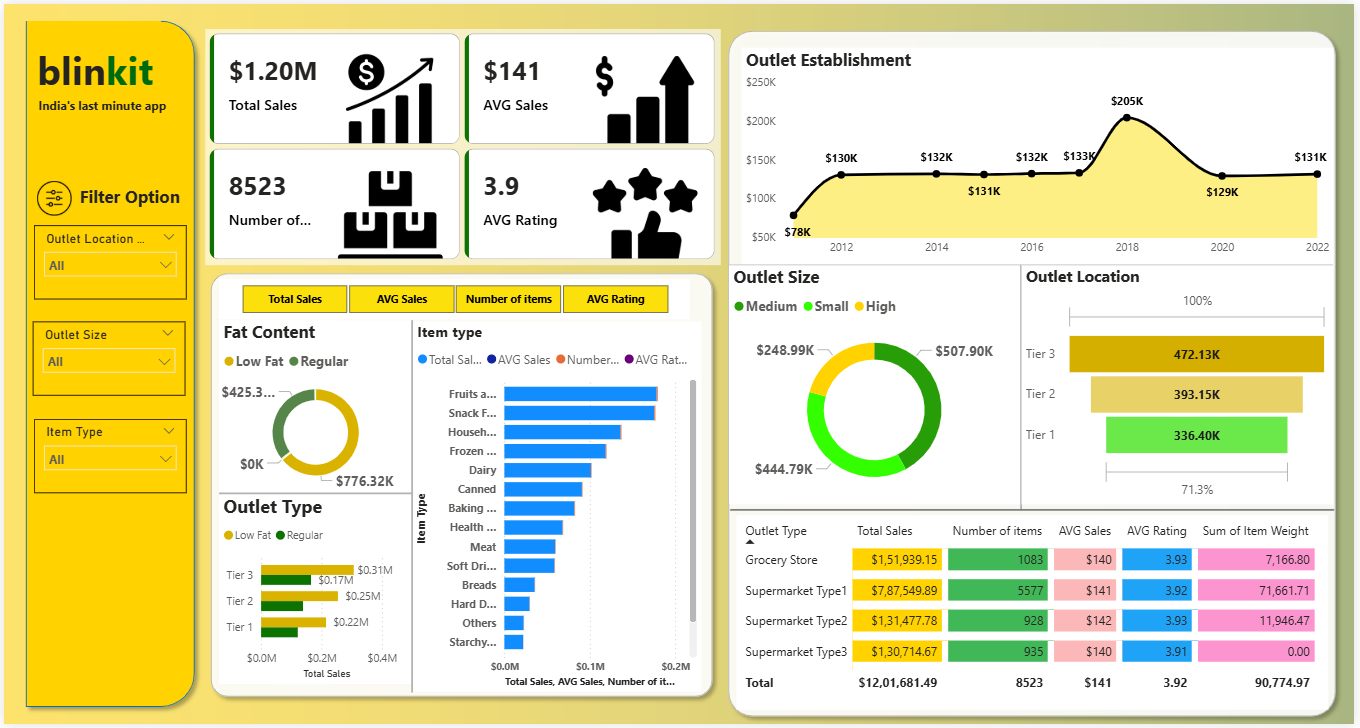

Layout of this report page (visuals, bound fields, positions):
{"tool":"powerbi","page":{"name":"Blinkit Dashboard","canvas":[1500,800],"ordinal":0},"visuals":[{"type":"shape","box":[15.5,9.9,205.6,780.3],"z":0},{"type":"textbox","box":[32.4,39.4,163.4,74.6],"z":1000},{"type":"textbox","box":[33.8,98.6,160.6,29.6],"z":2000},{"type":"cardVisual","fields":{"Data":["BlinkIT Grocery Data.Total Sales","BlinkIT Grocery Data.AVG Sales","BlinkIT Grocery Data.Number of items","BlinkIT Grocery Data.AVG Rating"]},"box":[223.2,27.5,572.5,262.3],"z":3000},{"type":"shape","box":[220.3,289.9,575.4,488.4],"z":4000},{"type":"donutChart","title":"Fat Content","fields":{"Y":["BlinkIT Grocery Data.Total Sales","BlinkIT Grocery Data.AVG Sales","BlinkIT Grocery Data.Number of items","BlinkIT Grocery Data.AVG Rating"],"Category":["BlinkIT Grocery Data.Item Fat Content"]},"box":[238.9,351.4,215.3,193.1],"z":5000},{"type":"slicer","fields":{"Values":["Metrix.Metrix"]},"box":[239.1,305.8,523.2,44.9],"z":6000},{"type":"cardVisual","fields":{"Data":["BlinkIT Grocery Data.Total Sales","BlinkIT Grocery Data.AVG Sales","BlinkIT Grocery Data.Number of items","BlinkIT Grocery Data.AVG Rating"]},"box":[284.7,434.7,127.8,83.3],"z":7000},{"type":"clusteredBarChart","title":"Outlet Type","fields":{"Y":["BlinkIT Grocery Data.Total Sales"],"Category":["BlinkIT Grocery Data.Outlet Location Type"],"Series":["BlinkIT Grocery Data.Item Fat Content"]},"box":[238.9,544.4,215.3,211.1],"z":8000},{"type":"barChart","title":"Item type","fields":{"Y":["BlinkIT Grocery Data.Total Sales","BlinkIT Grocery Data.AVG Sales","BlinkIT Grocery Data.Number of items","BlinkIT Grocery Data.AVG Rating"],"Category":["BlinkIT Grocery Data.Item Type"]},"box":[454.2,352.8,320.8,411.1],"z":9000},{"type":"shape","box":[238.9,508.3,215.3,70.8],"z":10000},{"type":"shape","box":[402.8,351.4,101.4,413.9],"z":11000},{"type":"shape","box":[795.7,20.3,692.8,779.7],"z":12000},{"type":"lineChart","title":"Outlet Establishment","fields":{"Category":["BlinkIT Grocery Data.Outlet Establishment Year"],"Y":["BlinkIT Grocery Data.Total Sales"]},"box":[818.8,49.3,658,240.6],"z":13000},{"type":"shape","box":[805.8,284.1,671,11.6],"z":14000},{"type":"donutChart","title":"Outlet Size","fields":{"Category":["BlinkIT Grocery Data.Outlet Size"],"Y":["BlinkIT Grocery Data.Total Sales"]},"box":[805.8,289.9,323.2,265.2],"z":15000},{"type":"shape","box":[1123.2,289.9,13,272.5],"z":16000},{"type":"shape","box":[807.2,555.1,671,13],"z":17000},{"type":"funnel","title":"Outlet Location","fields":{"Y":["Sum(BlinkIT Grocery Data.Sales)"],"Category":["BlinkIT Grocery Data.Outlet Location Type"]},"box":[1130.4,289.9,346.4,265.2],"z":18000},{"type":"pivotTable","fields":{"Rows":["BlinkIT Grocery Data.Outlet Type"],"Values":["BlinkIT Grocery Data.Total Sales","BlinkIT Grocery Data.Number of items","BlinkIT Grocery Data.AVG Sales","BlinkIT Grocery Data.AVG Rating","Sum(BlinkIT Grocery Data.Item Weight)"]},"box":[814.5,568.1,658,215.9],"z":19000},{"type":"slicer","fields":{"Values":["BlinkIT Grocery Data.Outlet Location Type"]},"box":[33.3,246.4,169.6,82.6],"z":20000},{"type":"slicer","fields":{"Values":["BlinkIT Grocery Data.Outlet Size"]},"box":[31.9,352.2,169.6,82.6],"z":21000},{"type":"slicer","fields":{"Values":["BlinkIT Grocery Data.Item Type"]},"box":[33.3,460.9,169.6,82.6],"z":22000},{"type":"textbox","box":[79.7,195.7,123.2,40.6],"z":23000},{"type":"image","box":[31.9,184.1,47.8,62.3],"z":24000}]}

Visuals, with their boxes in screenshot pixels (x1, y1, x2, y2), scaled from the page's 1500x800 canvas onto the 1360x728 screenshot:
shape: BBox(14, 9, 200, 719)
textbox: BBox(29, 36, 178, 104)
textbox: BBox(31, 90, 176, 117)
cardVisual - BlinkIT Grocery Data.Total Sales x BlinkIT Grocery Data.AVG Sales: BBox(202, 25, 721, 264)
shape: BBox(200, 264, 721, 708)
"Fat Content" donutChart: BBox(217, 320, 412, 495)
slicer - Metrix.Metrix: BBox(217, 278, 691, 319)
cardVisual - BlinkIT Grocery Data.Total Sales x BlinkIT Grocery Data.AVG Sales: BBox(258, 396, 374, 471)
"Outlet Type" clusteredBarChart: BBox(217, 495, 412, 688)
"Item type" barChart: BBox(412, 321, 703, 695)
shape: BBox(217, 463, 412, 527)
shape: BBox(365, 320, 457, 696)
shape: BBox(721, 18, 1350, 727)
"Outlet Establishment" lineChart: BBox(742, 45, 1339, 264)
shape: BBox(731, 259, 1339, 269)
"Outlet Size" donutChart: BBox(731, 264, 1024, 505)
shape: BBox(1018, 264, 1030, 512)
shape: BBox(732, 505, 1340, 517)
"Outlet Location" funnel: BBox(1025, 264, 1339, 505)
pivotTable - BlinkIT Grocery Data.Outlet Type x BlinkIT Grocery Data.Total Sales: BBox(738, 517, 1335, 713)
slicer - BlinkIT Grocery Data.Outlet Location Type: BBox(30, 224, 184, 299)
slicer - BlinkIT Grocery Data.Outlet Size: BBox(29, 321, 183, 396)
slicer - BlinkIT Grocery Data.Item Type: BBox(30, 419, 184, 495)
textbox: BBox(72, 178, 184, 215)
image: BBox(29, 168, 72, 224)
